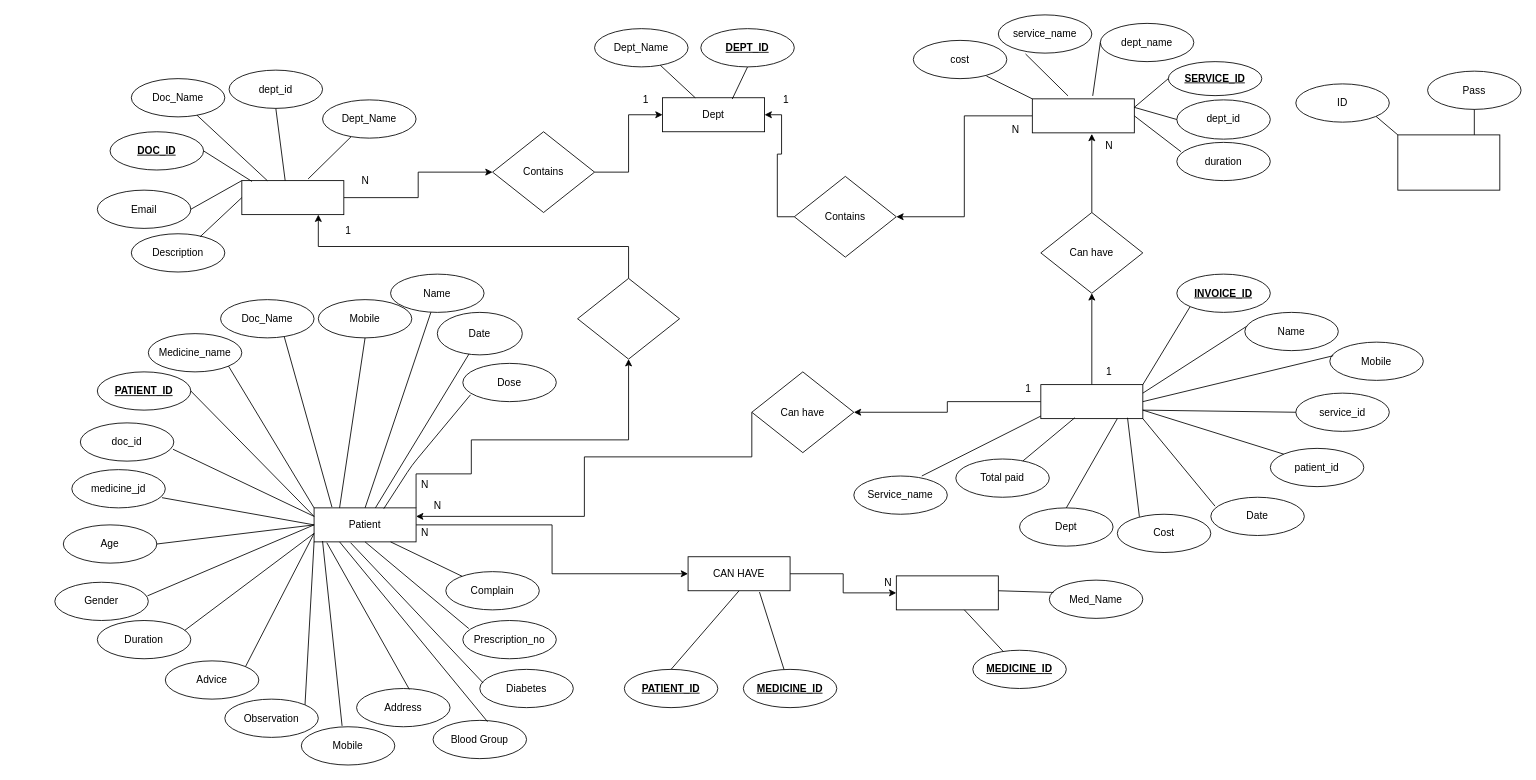
Image size: 1536x780. Some labels were removed from this diagram. The shapes that lost their labels are listed below. From the top down, each one's centre as x and y in pixels, then its label:
At point 1082,115: "Services".
At point 1448,162: "Admin".
At point 292,197: "Doctors".
At point 628,318: "Visits".
At point 1091,401: "Invoice".
At point 946,592: "Medicine".
